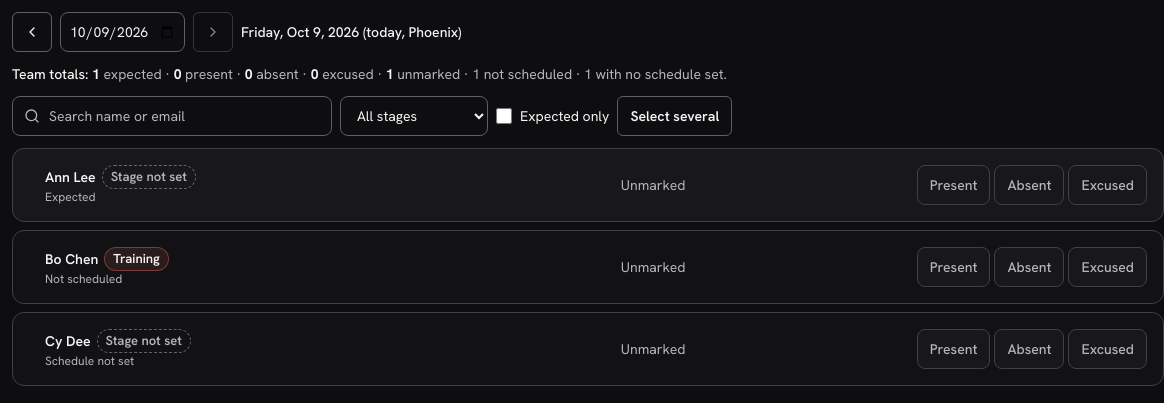
Test: Attendance: one day, one tap › filters by stage and 'expected only'
The width and height of the screenshot is (1164, 403).
Expected: the text "Ann Lee" is shown, [45, 167, 96, 187]
Step 1. Select "Training" in the dropdown named "Stage filter" → x=414, y=116, box [340, 96, 488, 136]
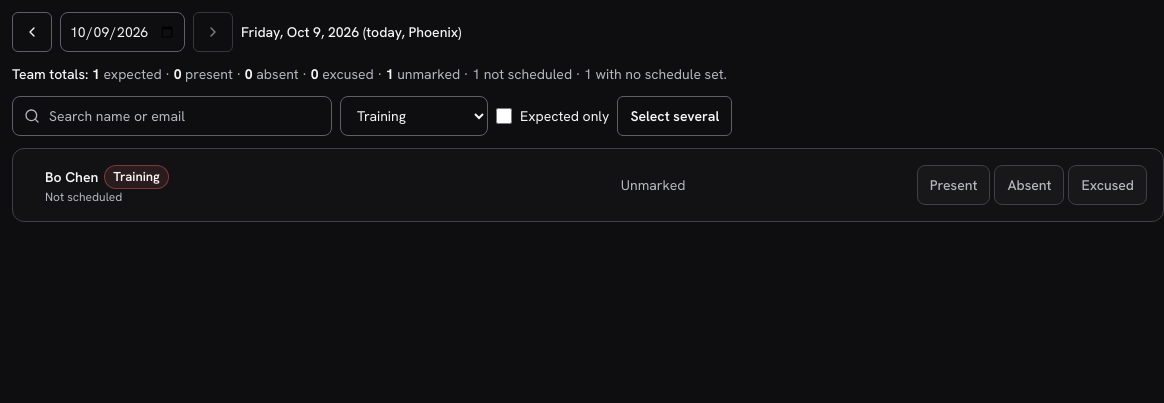
Expected: the text "Bo Chen" is shown, [45, 167, 98, 187]
Result: the text "Ann Lee" is gone
Step 2. Select "All stages" in the dropdown named "Stage filter" → x=414, y=116, box [340, 96, 488, 136]
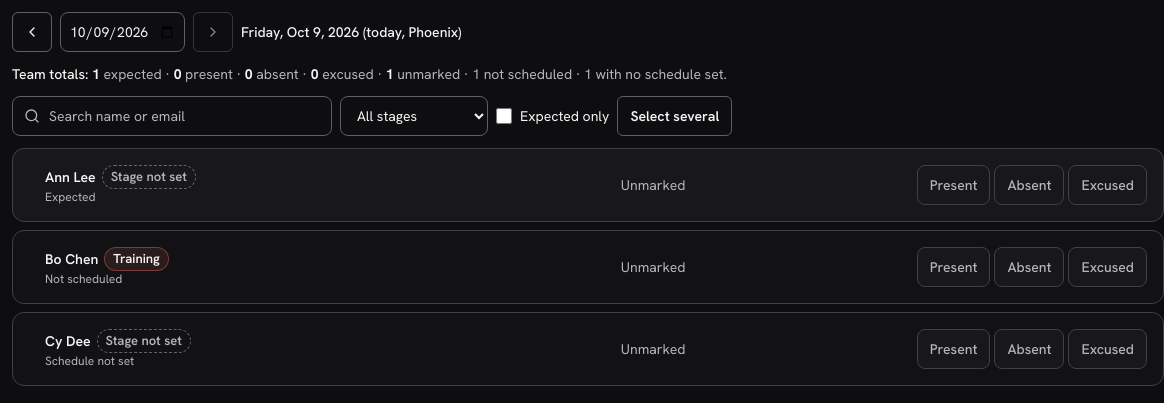
Step 3. Click the checkbox labelled "Expected only" → x=504, y=116, box [496, 108, 512, 124]
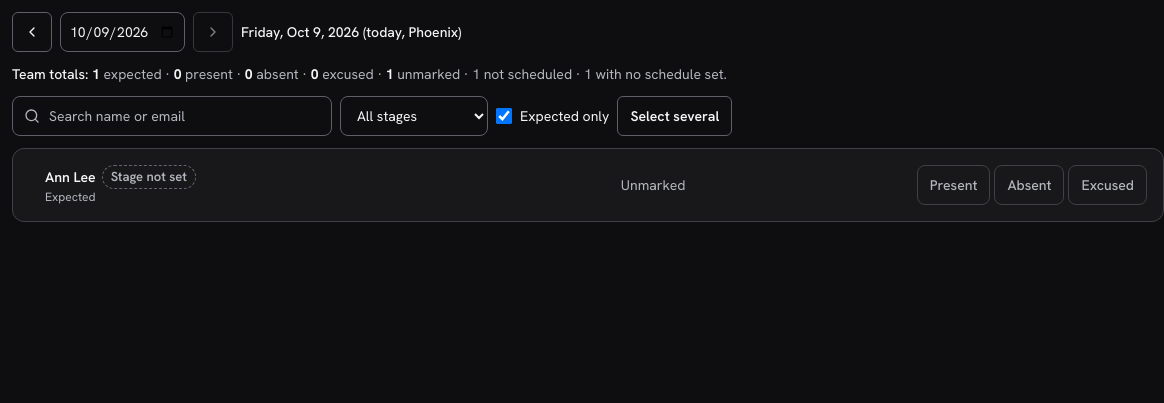
Result: the text "Ann Lee" is shown at [45, 167, 96, 187]
Result: the text "Bo Chen" is gone
